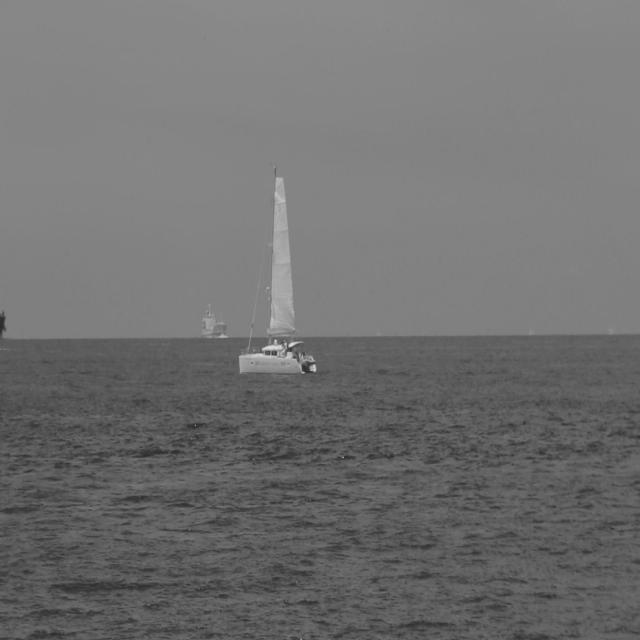ship: (236, 166, 316, 377), (0, 238, 8, 361), (200, 306, 228, 341)
